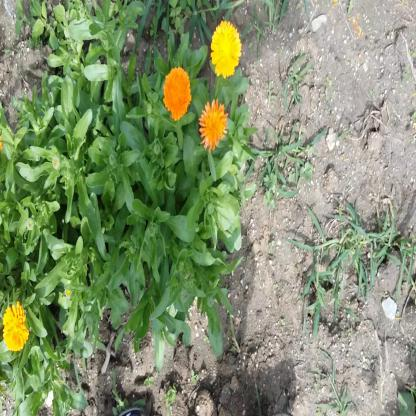marigold: (208, 20, 241, 79), (163, 69, 191, 119), (199, 98, 227, 147), (2, 305, 28, 349)
